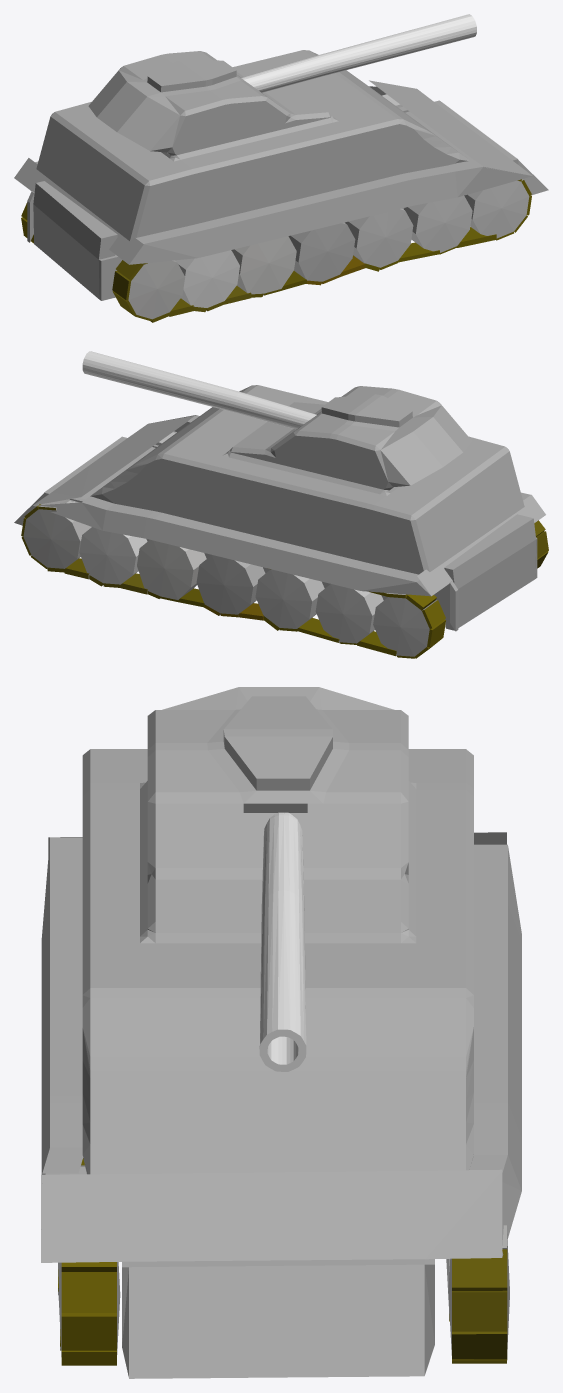
The model's file is tank.dae.
3 renders of one model, top to bottom at view 1: azimuth 30°, elevation 25°; view 2: azimuth 150°, elevation 25°; view 3: azimuth 270°, elevation 25°, orthographic. The views are drawn at different scales.
Parts seen in each view (by area): view 1: Cube, Cylinder, Circle_007, Circle_011, Circle_010, Circle_012, Circle_009, Circle_008, Circle_013; view 2: Cube, Cylinder, Circle, Circle_002, Circle_006, Circle_003, Circle_004, Circle_001, Circle_005, Circle_007; view 3: Cube, Cylinder, Circle_006, Circle_013.
Boxes of the visible parts, <box> form: Cube: <box>14,50,548,300</box>; Cylinder: <box>241,14,476,92</box>; Circle_007: <box>112,260,193,322</box>; Circle_011: <box>345,208,439,271</box>; Circle_010: <box>288,222,365,285</box>; Circle_012: <box>404,195,496,254</box>; Circle_009: <box>231,236,306,297</box>; Circle_008: <box>175,250,251,312</box>; Circle_013: <box>464,179,531,240</box>; Cube: <box>14,385,545,631</box>; Cylinder: <box>82,351,316,429</box>; Circle: <box>369,591,445,658</box>; Circle_002: <box>255,569,339,642</box>; Circle_006: <box>21,499,91,579</box>; Circle_003: <box>196,554,265,620</box>; Circle_004: <box>137,539,206,607</box>; Circle_001: <box>315,584,396,656</box>; Circle_005: <box>73,501,147,594</box>; Circle_007: <box>534,520,548,568</box>; Cube: <box>41,687,521,1378</box>; Cylinder: <box>259,812,306,1071</box>; Circle_006: <box>448,1225,509,1363</box>; Circle_013: <box>58,1262,120,1365</box>.
Bounding box in the file's own units: 3.77 × 1.75 × 1.56.
